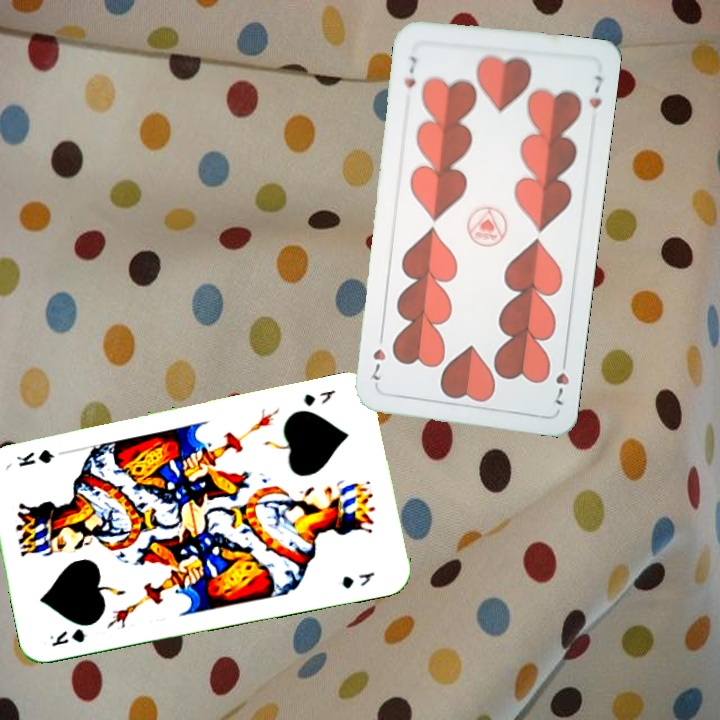GK: (45, 624, 88, 649), (300, 385, 338, 409)
H7: (548, 352, 572, 409), (399, 52, 419, 91)
